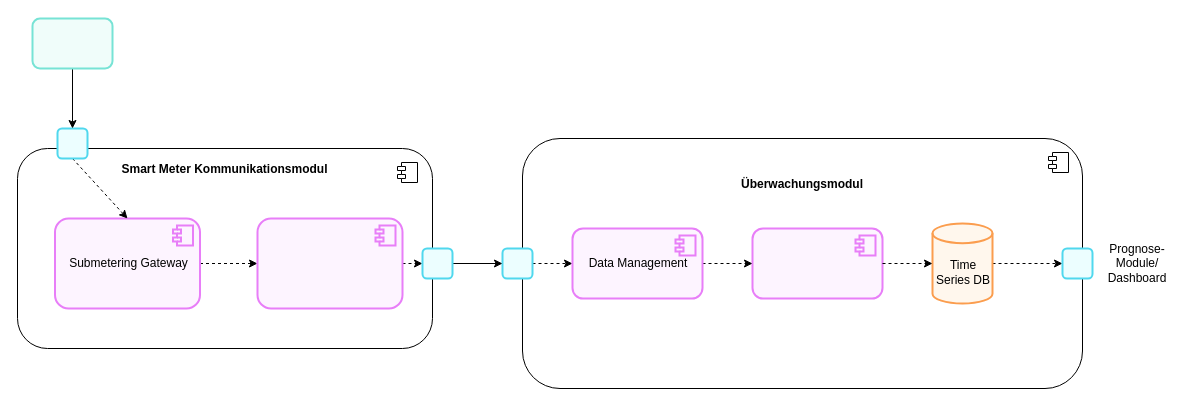
This 1185x406 diagram has some shape labels left out. Here are the shapes that lost their labels. From the top down, the box of each, then its label:
(31, 17, 113, 69): Smart Meter (Datenquelle)
(256, 217, 403, 309): Communication Cloud
(751, 227, 883, 299): Repository
